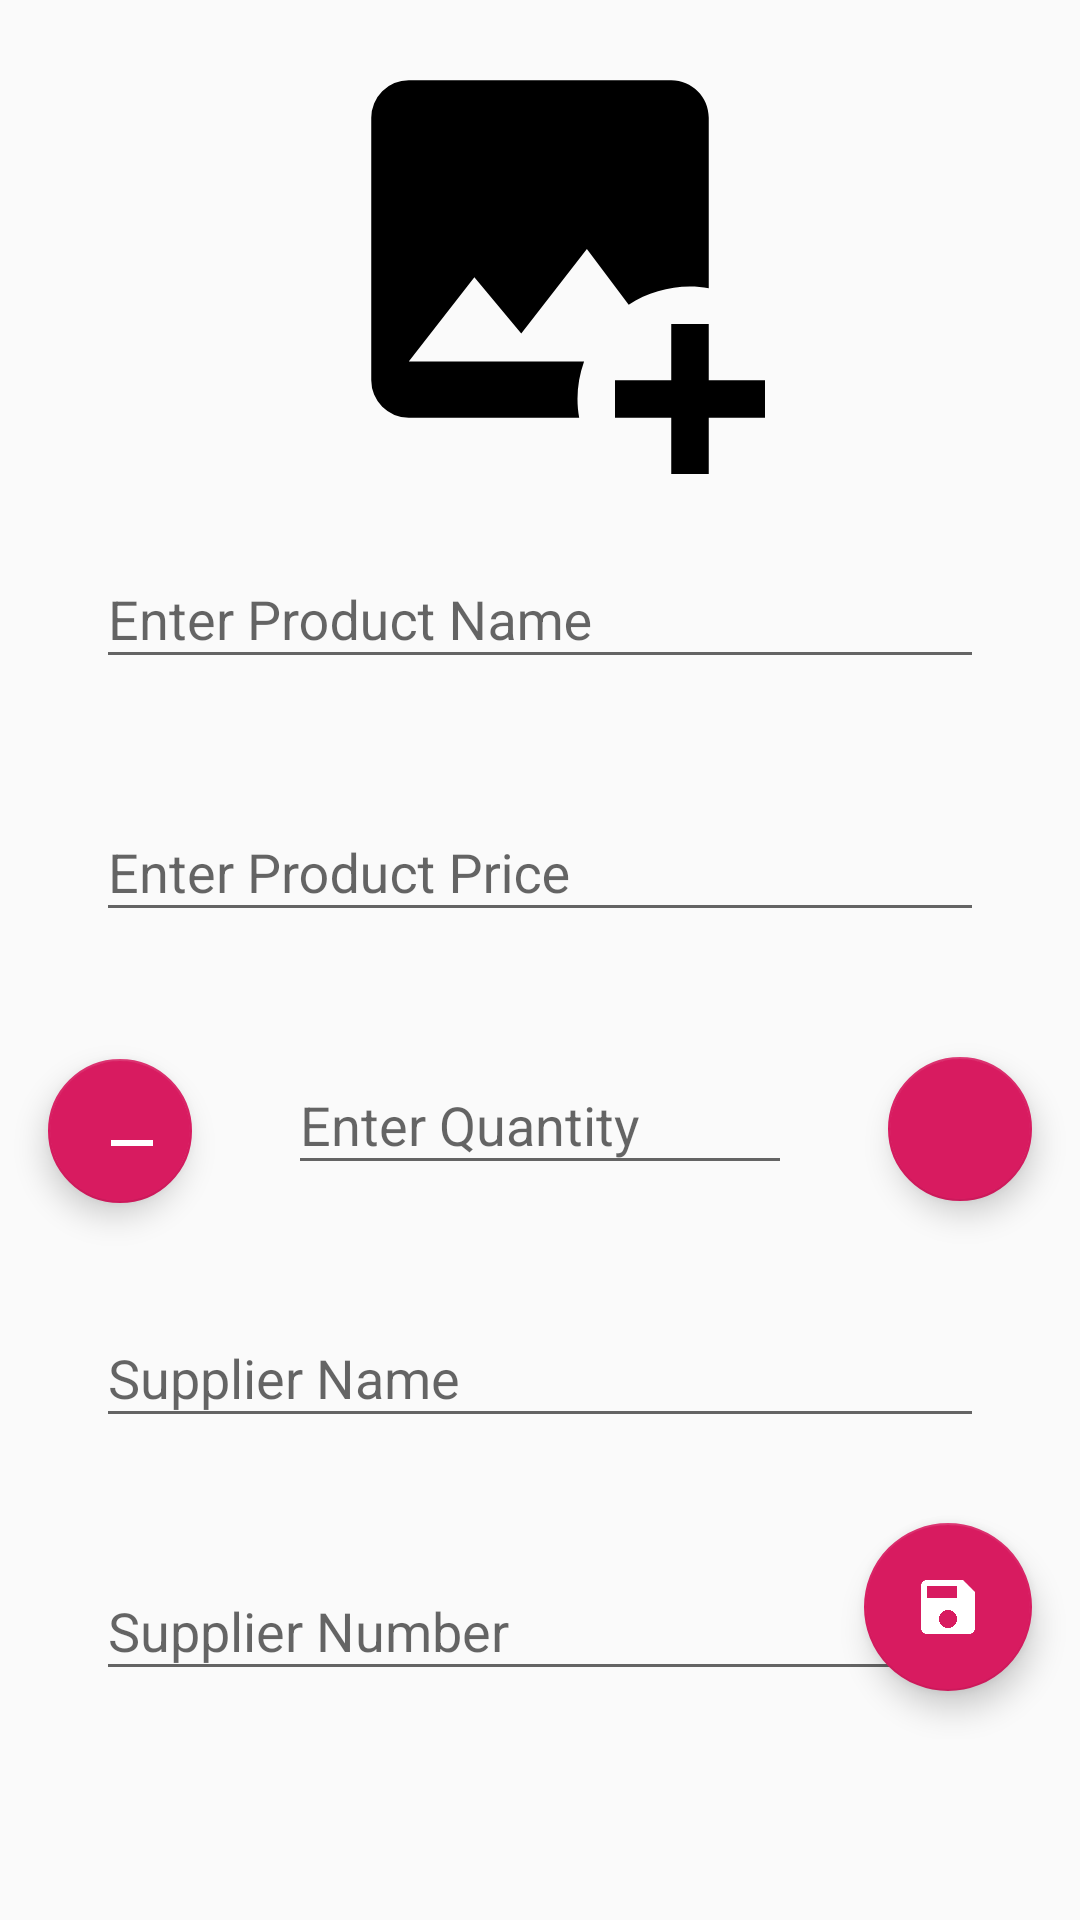

Where to tap for icons on this 1080*1920 app screen, as [x,y]:
content save: [948,1607]
minus: [120,1131]
